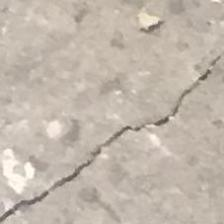Crack: (19, 52, 224, 223)
